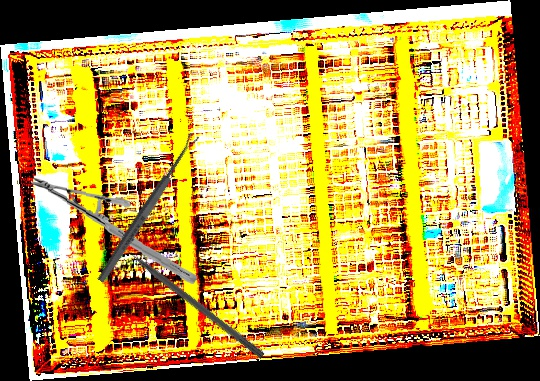Needle Holder: (26, 175, 202, 285)
Pusher: (112, 236, 267, 360)
Surgical Spoon: (95, 131, 201, 285)
